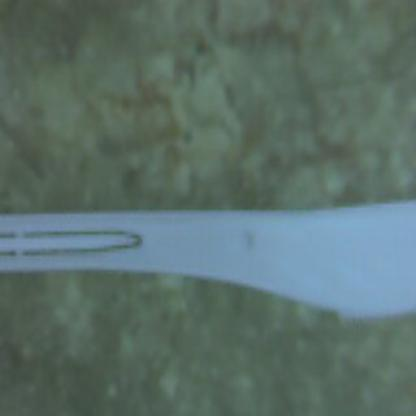knife: (0, 176, 415, 344)
